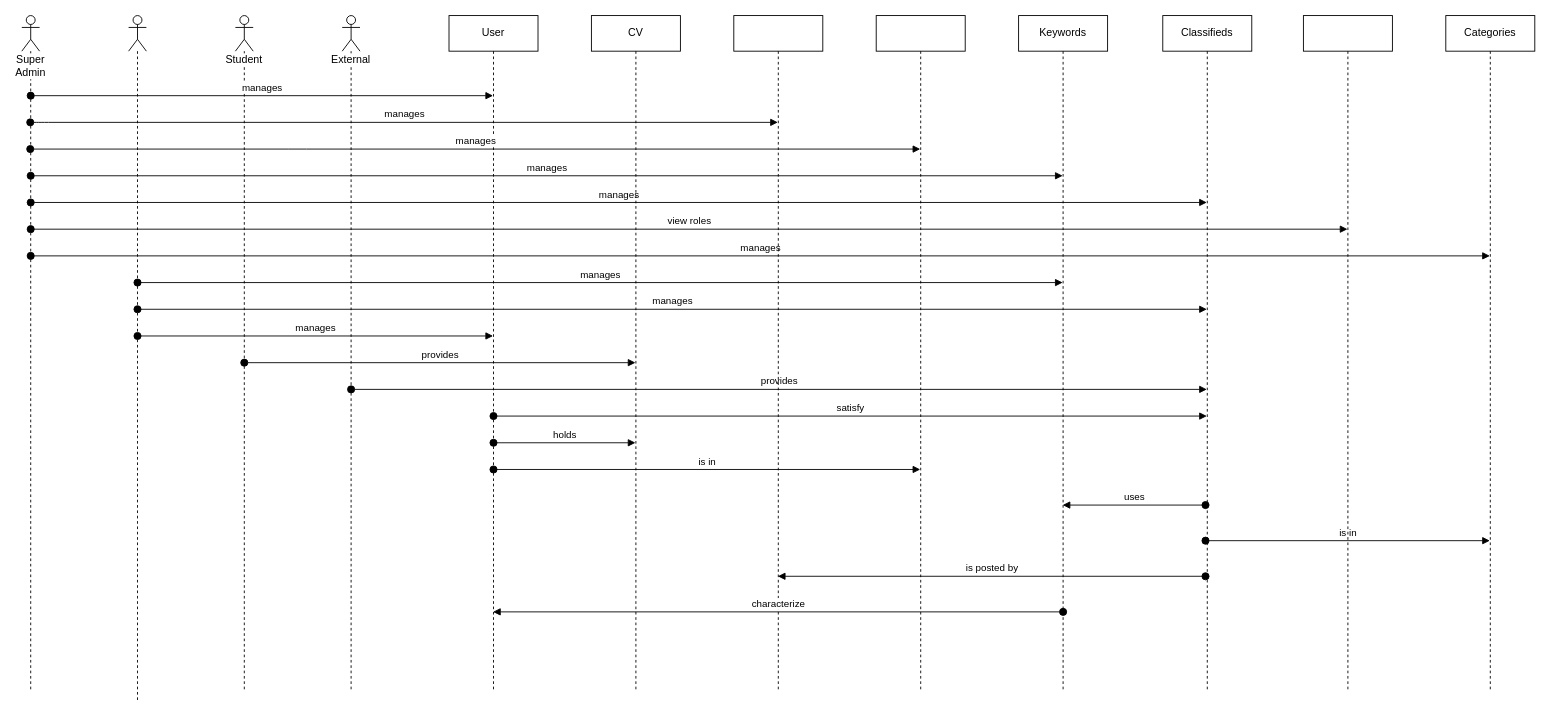
Some shapes in this 1550 by 716 pixel diagram are drawn without their labels. Here are the shapes that lost their labels. From the top down, the box of each, then its label:
(128, 15, 146, 701): Admin
(733, 15, 823, 692): Companies
(875, 15, 965, 692): Departments
(1303, 15, 1392, 692): Roles
